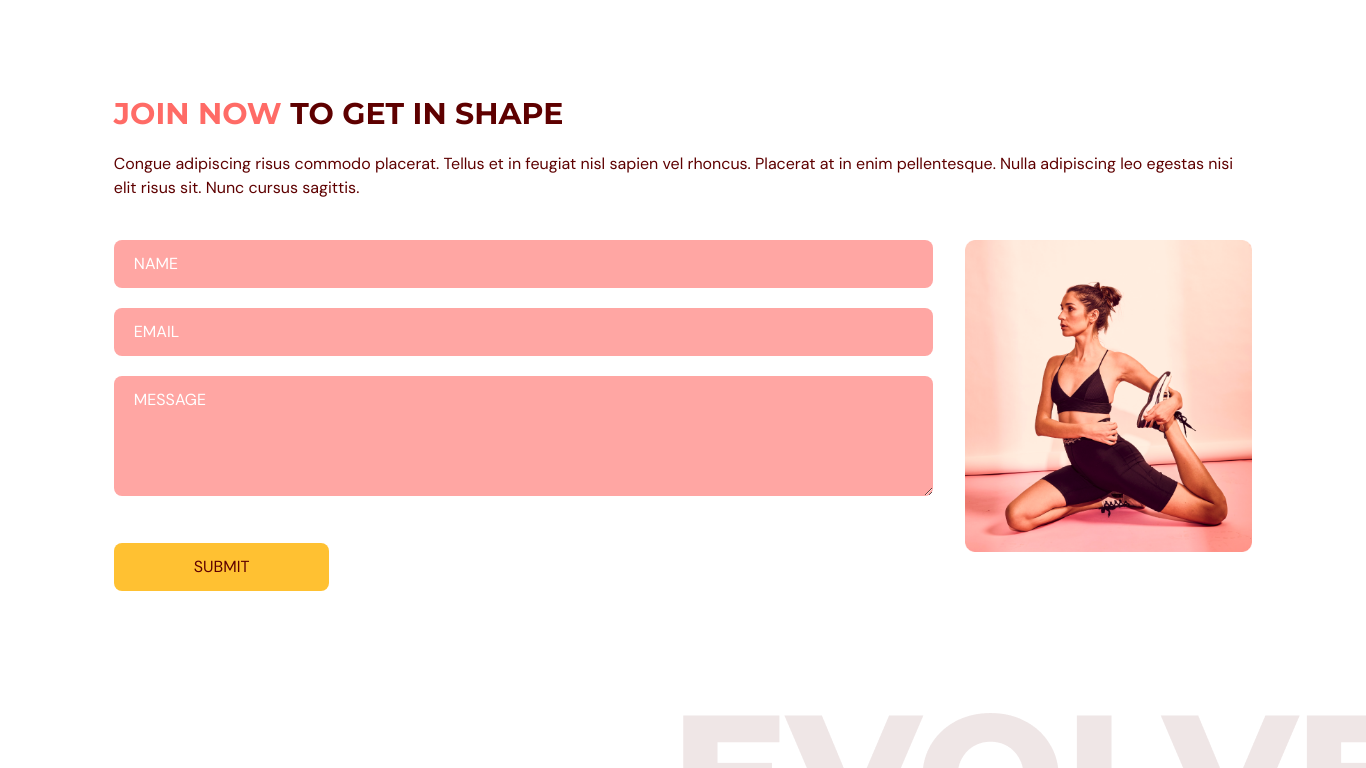
it: ContactUs Test › Affichage du message [This field is required] pour l'input name
The width and height of the screenshot is (1366, 768).
Simulate user input
Type "john@example.com" into the field with placeholder "EMAIL" at (524,332), box [114,308,933,356]
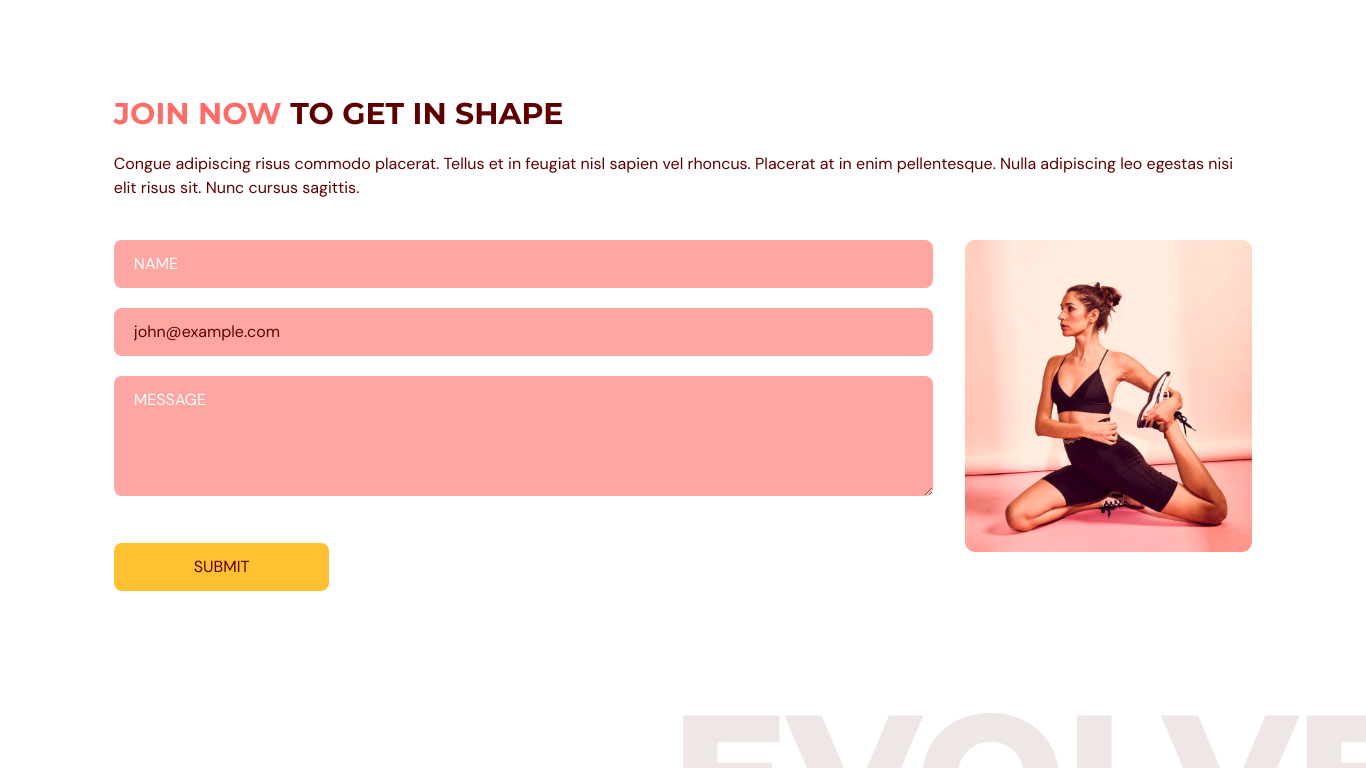
Type "Hello, world!" into the text box with placeholder "MESSAGE" at (524,436), box [114,376,933,496]
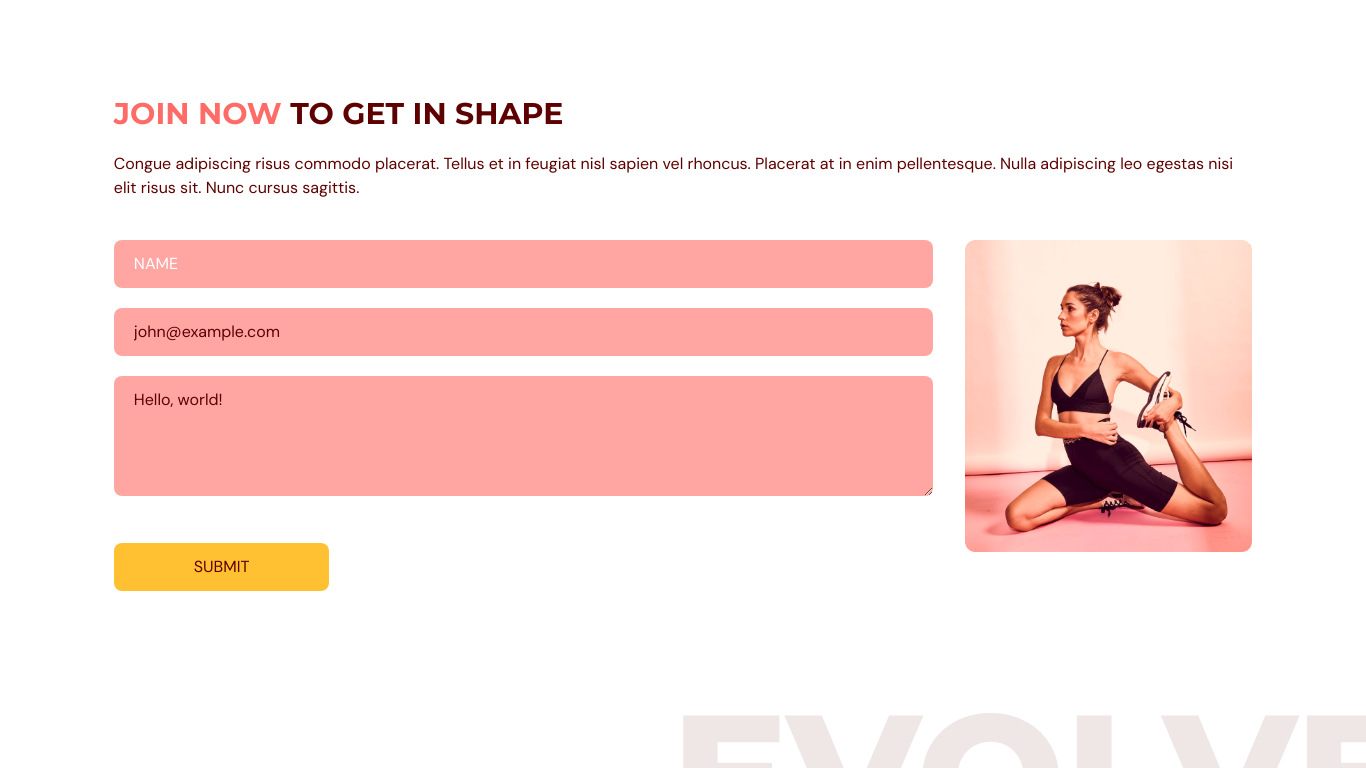
Submit the form
Click the button "SUBMIT" at (222,567), box [114,543,329,591]
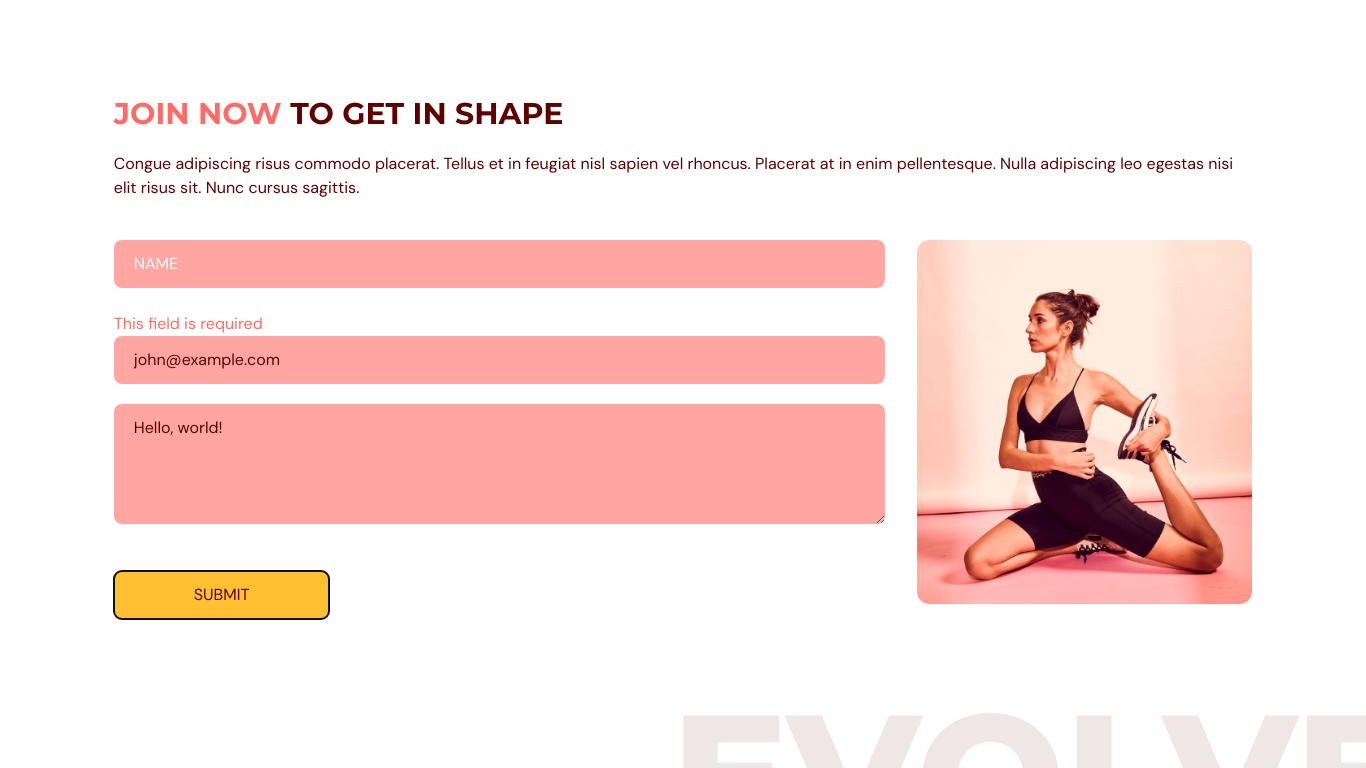
Check: the text "This field is required" is shown once, box [114,313,263,334]
